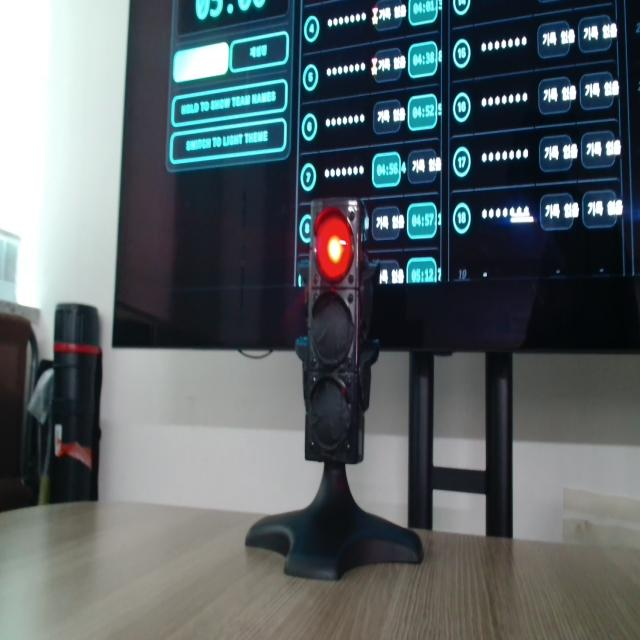red_light: (315, 209, 352, 281)
